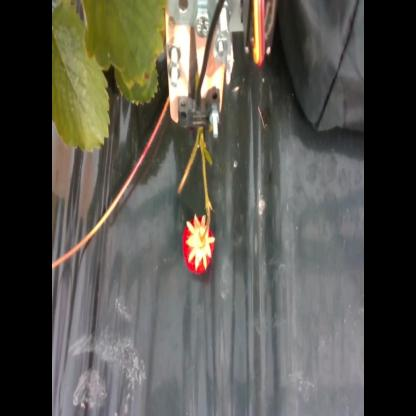ripe: (180, 211, 218, 278)
